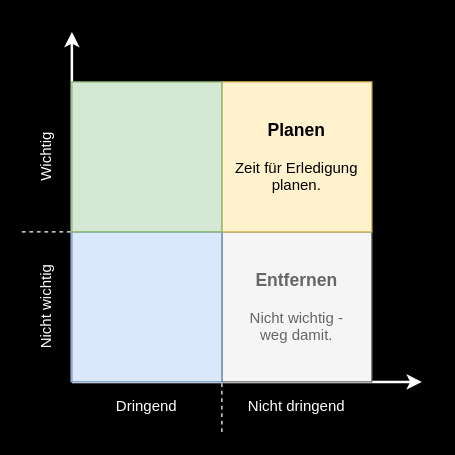
Some shapes in this 455 by 455 pixel diagram are drawn without their labels. The centre of each missing label's shape, as x and y in pixels:
"Delegieren Wer kann das für Dich erledigen?" belongs at [146,306].
"Machen Als erstes erledigen." belongs at [146,156].
